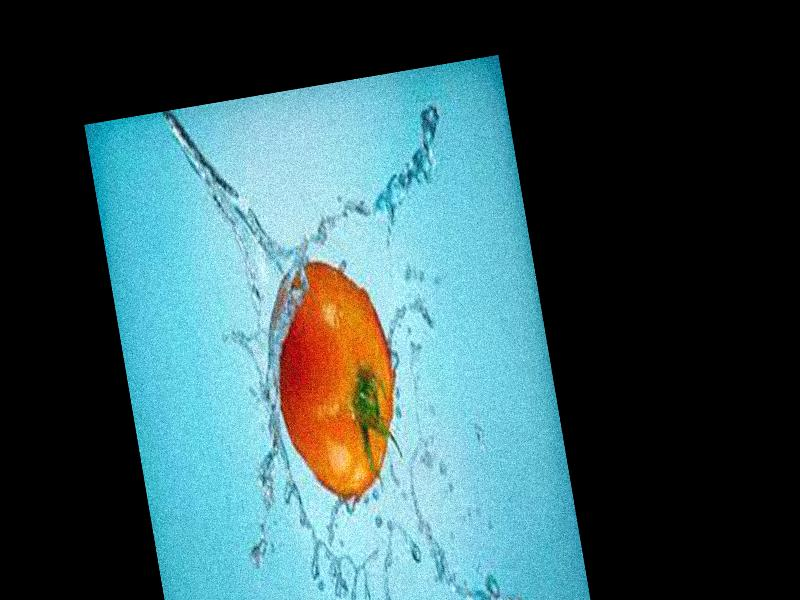Tomato: (255, 252, 411, 509)
